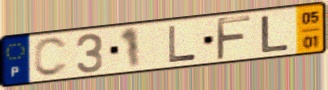1: (117, 25, 143, 71)
3: (75, 32, 105, 74)
C: (32, 36, 70, 79)
F: (214, 14, 254, 62)
L: (259, 14, 292, 55), (166, 24, 199, 64)
